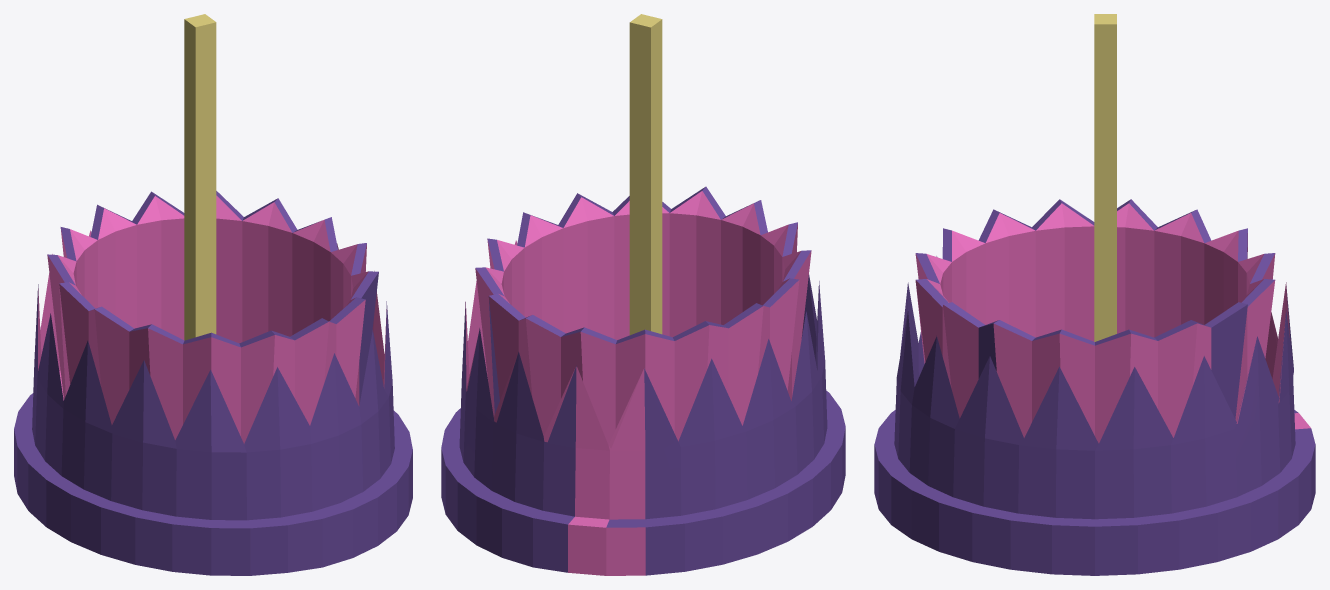
File: กระทงสีม่วง  untitled.fbx
The picture shows the model from 3 angles, left to right: view 1: azimuth 30°, elevation 25°; view 2: azimuth 150°, elevation 25°; view 3: azimuth 270°, elevation 25°; orthographic projection.
Parts seen in each view (by area): view 1: วงกลม.002; view 2: วงกลม.002; view 3: วงกลม.002.
Part boxes in pixels (left/top/right/bottom): วงกลม.002: left=14, top=14, right=412, bottom=575; วงกลม.002: left=441, top=14, right=845, bottom=575; วงกลม.002: left=874, top=14, right=1315, bottom=575.
Size of the model in its own units: 145 by 192 by 163.
